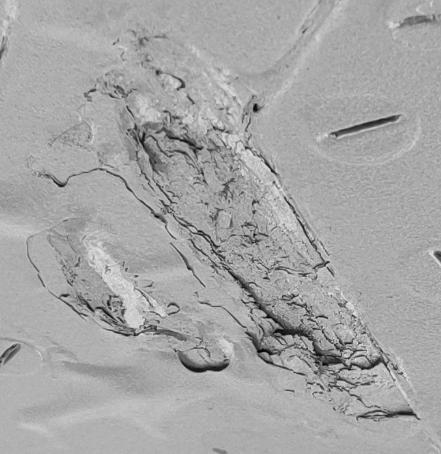paint-off: (1, 1, 441, 454)
